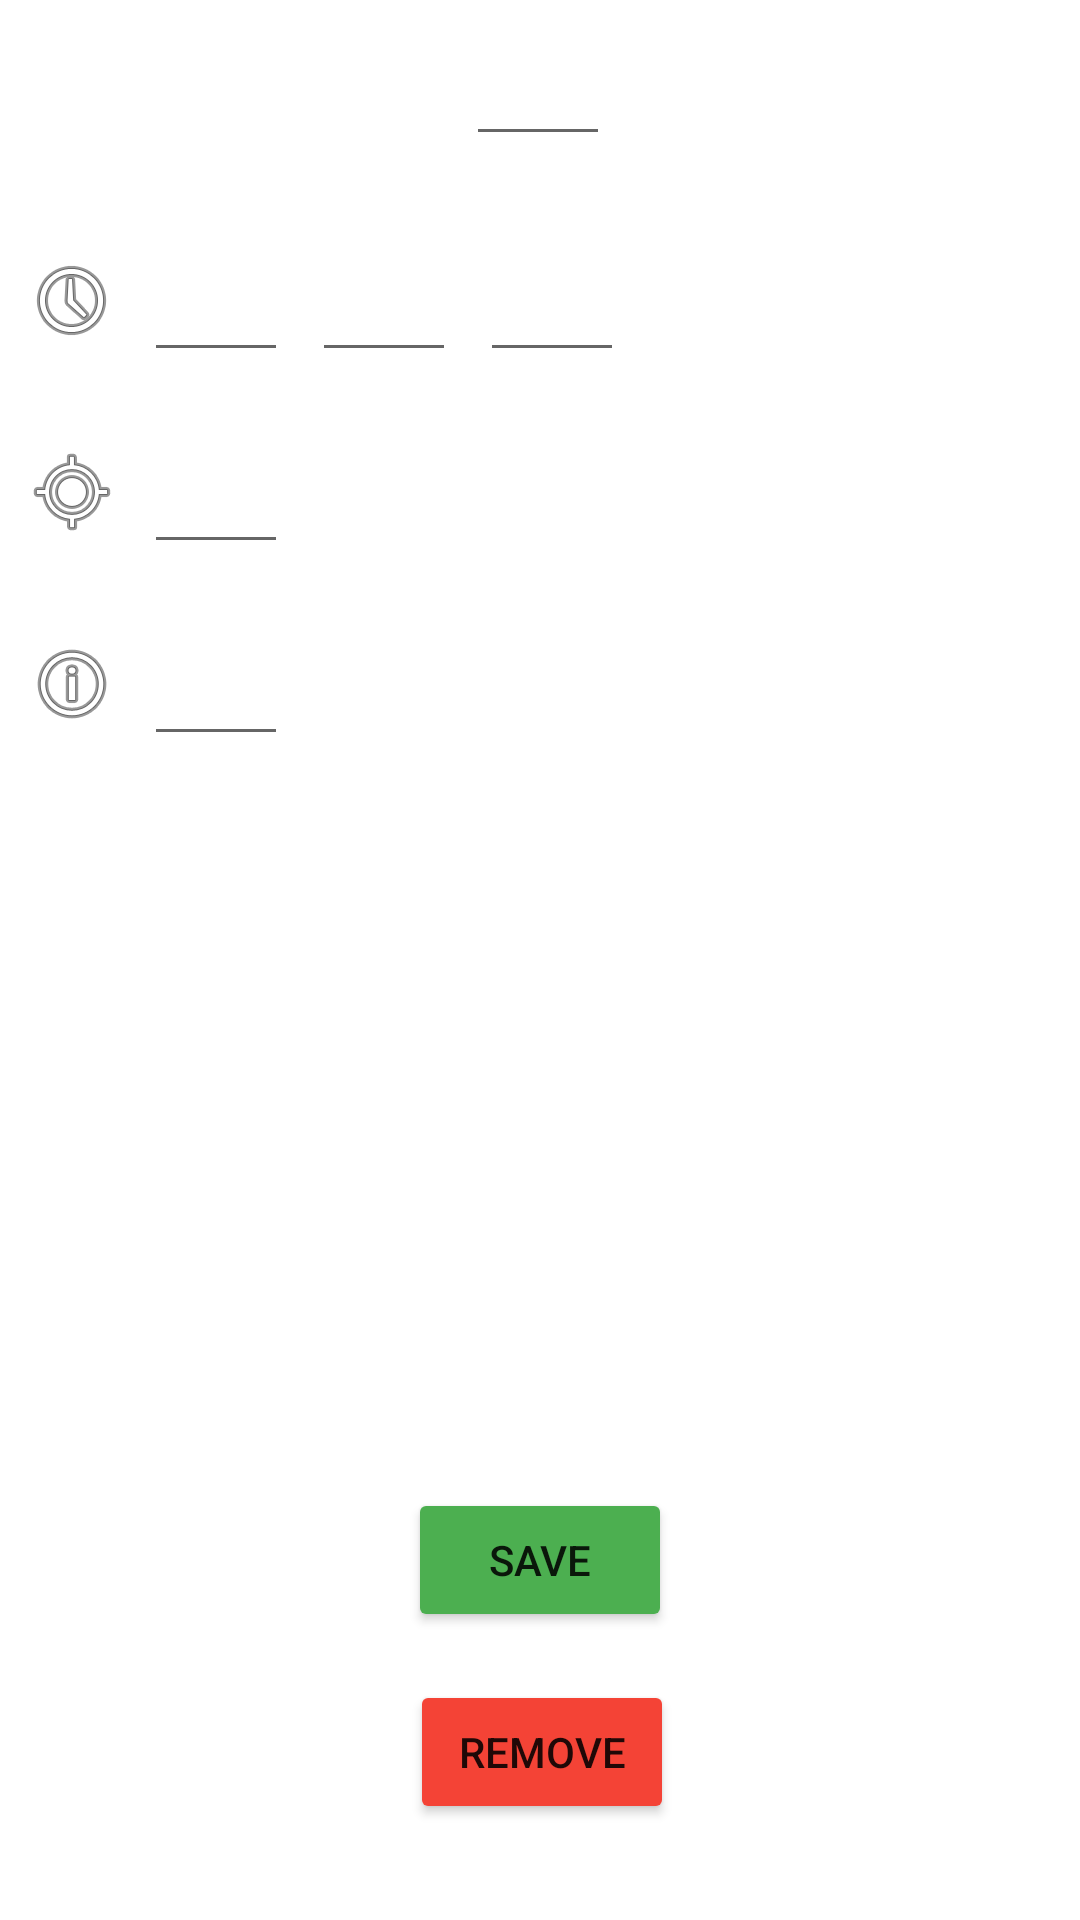

Icon click points for this 1080px×1920px phone screenshot, format [x,y]:
info details: [72,684]
mylocation: [72,492]
recent history: [71,300]
